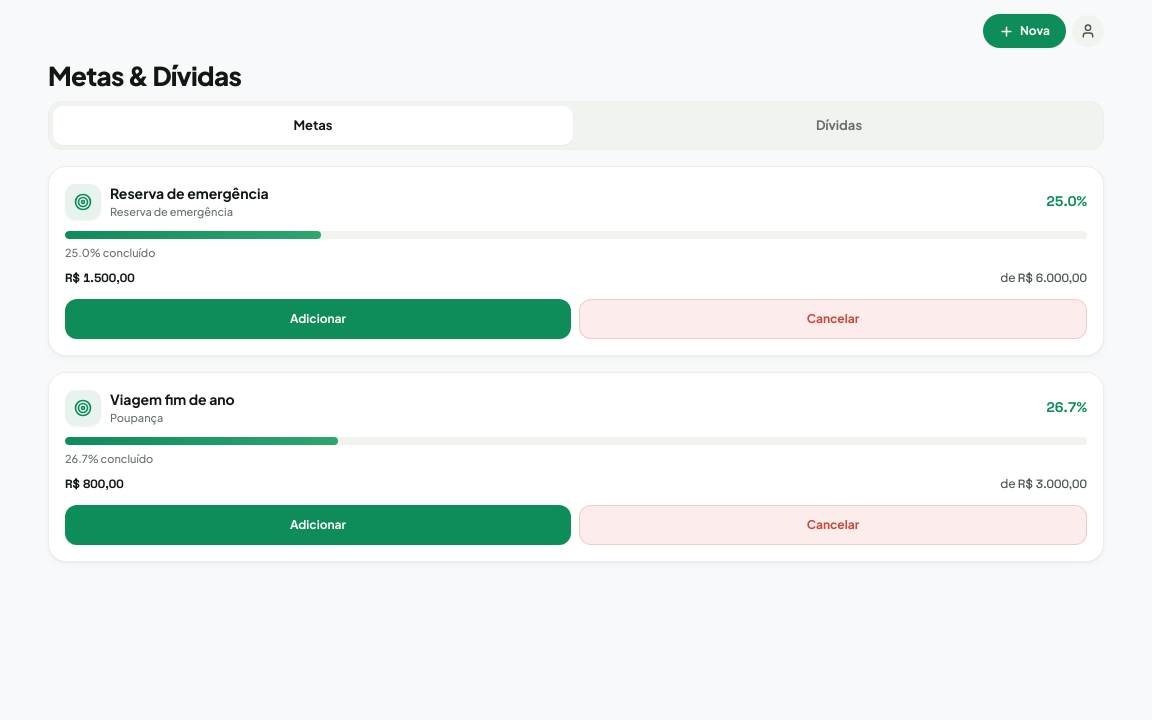
GoalsPage › with data › switches to Dívidas tab
This screenshot has width=1152, height=720.
Click the button "Dívidas".
click(839, 125)  # box [579, 106, 1099, 145]
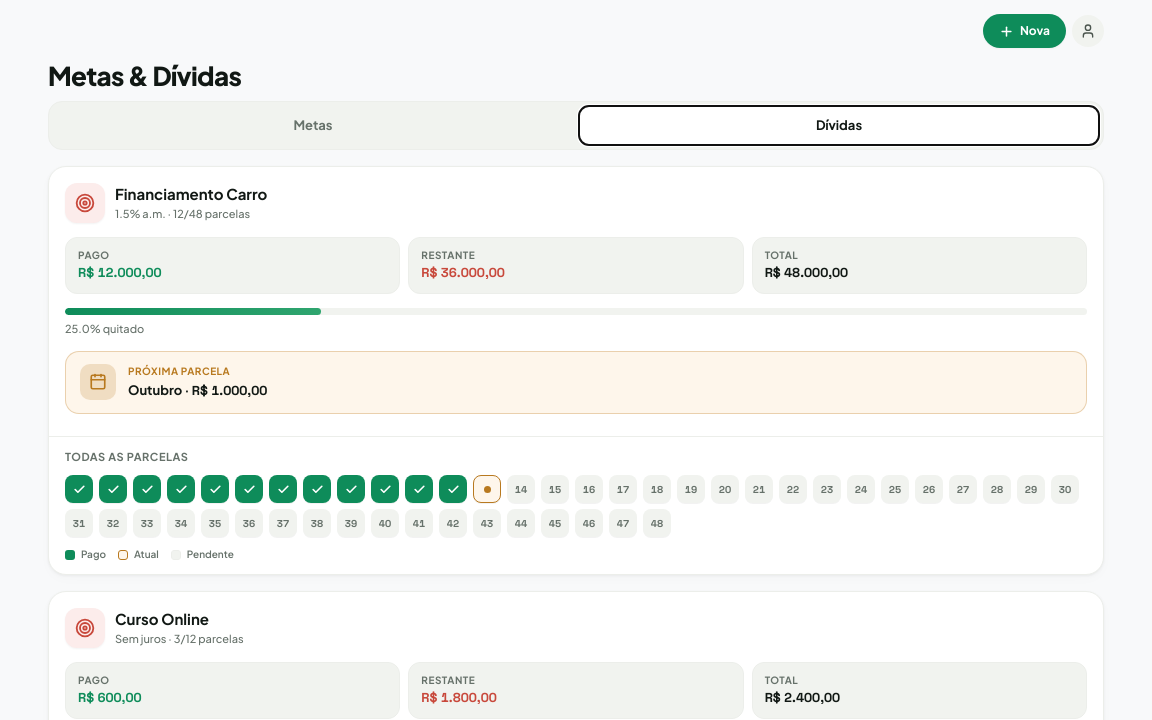
Now the text "Financiamento Carro" is shown, box [115, 184, 267, 203]
